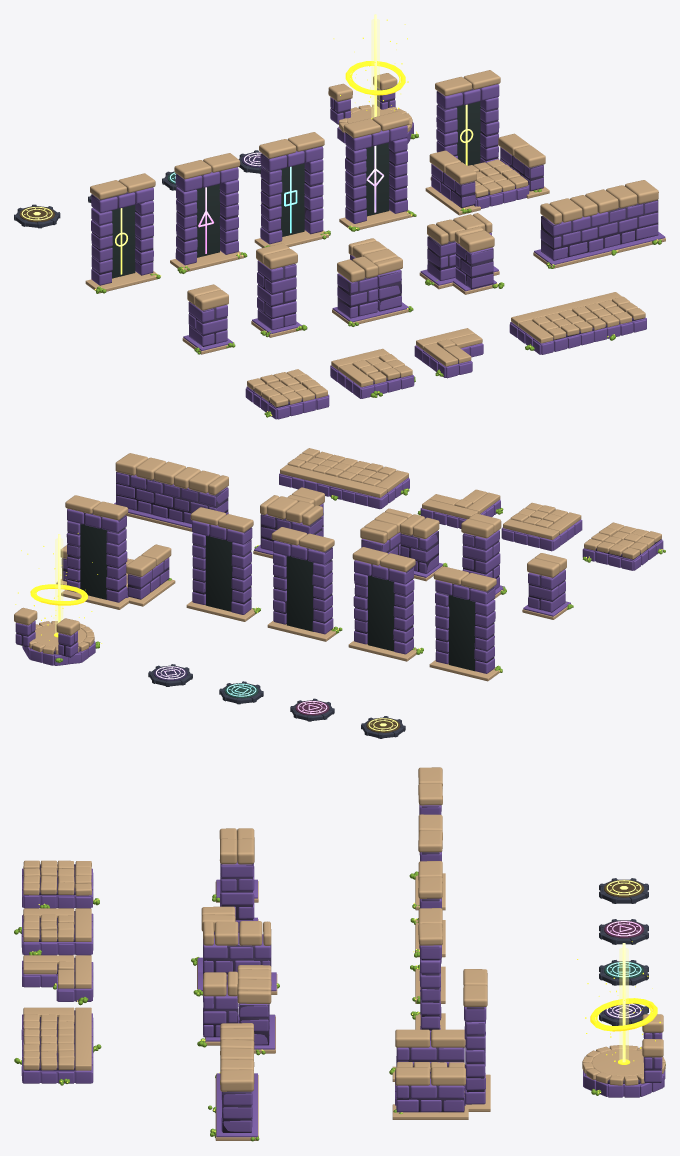
The model's file is all.gltf.
3 renders of one model, top to bottom at view 1: azimuth 30°, elevation 25°; view 2: azimuth 150°, elevation 25°; view 3: azimuth 270°, elevation 25°, orthographic. The views are drawn at different scales.
Parts seen in each view (by area): view 1: LongTile_2x1, FloorTile_1x1, CircleDoor_panel, SquareDoor_panel, DiamondDoor_panel, TriangleDoor_panel, DoorwayPlatform_panel, BorderTile_1x1, LongWall_core, LongTile_2x1_Band1, Exit_beam_haze, LongWall_plinth_base (+4 smaller); view 2: LongTile_2x1, FloorTile_1x1, DiamondDoor_panel, SquareDoor_panel, TriangleDoor_panel, CircleDoor_panel, DoorwayPlatform_panel, BorderTile_1x1, LongTile_2x1_Band1, LongWall_core, Exit_beam_haze, BorderTile_1x1_Band1 (+26 smaller); view 3: LongTile_2x1, FloorTile_1x1, BorderTile_1x1, Exit_top, LongTile_2x1_Band1, Exit_beam_haze, CornerTile_1x1, LongWall_plinth_base, Exit_ring, LongWall_cap_b5, Doorway_L_cap0, Doorway_R_cap0 (+11 smaller).
Boxes of the visible parts, x1,y1,x2,y2 form: LongTile_2x1: [510, 296, 646, 339]; FloorTile_1x1: [247, 369, 329, 407]; CircleDoor_panel: [112, 204, 135, 278]; SquareDoor_panel: [281, 163, 304, 236]; DiamondDoor_panel: [366, 142, 389, 216]; TriangleDoor_panel: [196, 184, 219, 257]; DoorwayPlatform_panel: [457, 101, 480, 165]; BorderTile_1x1: [330, 354, 414, 385]; LongWall_core: [541, 200, 658, 260]; LongTile_2x1_Band1: [511, 292, 622, 326]; Exit_beam_haze: [371, 19, 379, 118]; LongWall_plinth_base: [534, 232, 665, 265]; LongTile_2x1: [279, 448, 396, 509]; FloorTile_1x1: [582, 522, 661, 570]; DiamondDoor_panel: [205, 536, 232, 611]; SquareDoor_panel: [286, 556, 313, 631]; TriangleDoor_panel: [367, 575, 394, 651]; CircleDoor_panel: [448, 595, 475, 671]; DoorwayPlatform_panel: [80, 524, 107, 599]; BorderTile_1x1: [501, 502, 567, 551]; LongTile_2x1_Band1: [280, 465, 386, 497]; LongWall_core: [116, 472, 228, 522]; Exit_beam_haze: [55, 538, 62, 635]; BorderTile_1x1_Band1: [503, 519, 559, 539]; LongTile_2x1: [23, 1013, 93, 1083]; FloorTile_1x1: [23, 860, 93, 908]; BorderTile_1x1: [23, 913, 93, 955]; Exit_top: [591, 1049, 643, 1076]; LongTile_2x1_Band1: [75, 1007, 91, 1070]; Exit_beam_haze: [619, 948, 628, 1062]; CornerTile_1x1: [23, 961, 93, 1001]; LongWall_plinth_base: [216, 1073, 257, 1137]; Exit_ring: [590, 998, 657, 1031]; LongWall_cap_b5: [220, 1069, 254, 1091]; Doorway_L_cap0: [395, 1029, 429, 1047]; Doorway_R_cap0: [395, 1067, 429, 1085].
Bounding box in the file's own units: 9.15 × 2.2 × 9.44.
